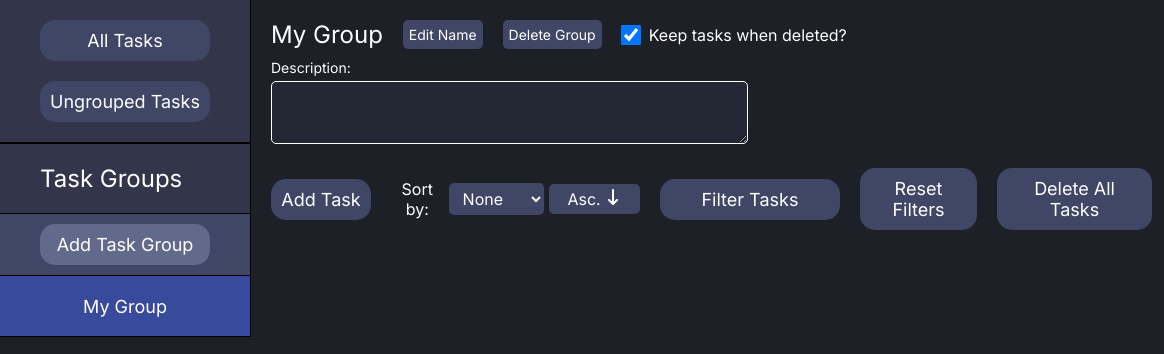
Test: MainPage › Delete a task group › Confirming the deletion deletes the task group (this one has no tasks)
Click the button with test id "group-delete-button" at [552, 34], box [503, 20, 602, 49]
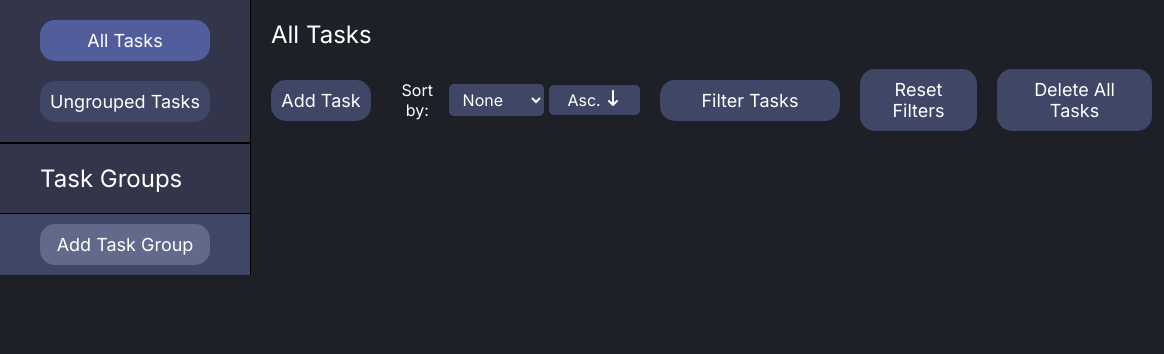
Check: the button "All Tasks" is shown, box [40, 20, 210, 61]
Check: the text with test id "task-group-component-id1" is gone
